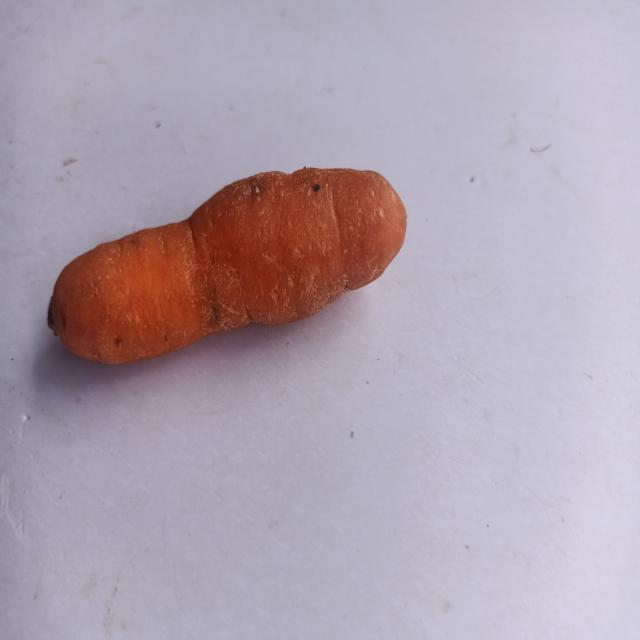Carrot: (39, 153, 480, 394)
